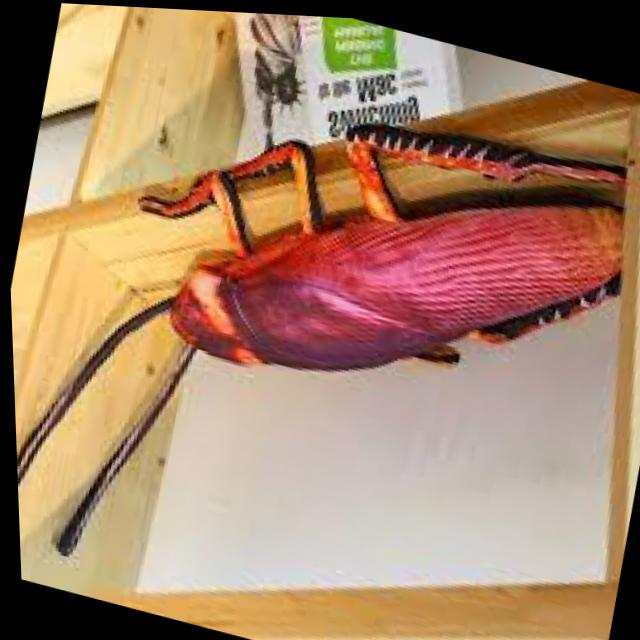Cockroach: (1, 28, 640, 608)
